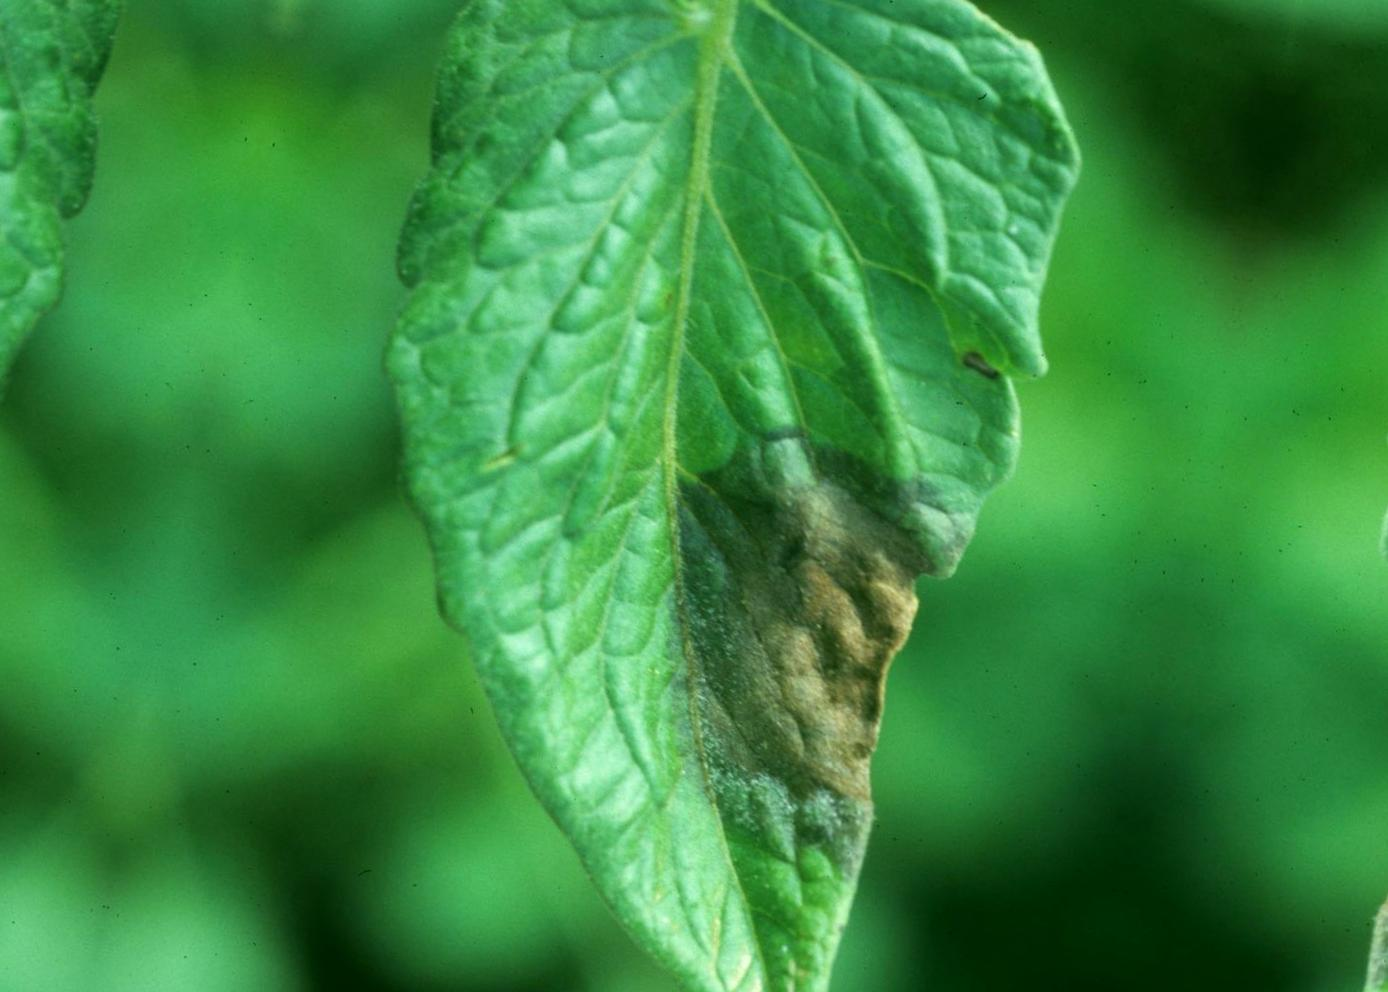Tomato leaf late blight: (218, 0, 1172, 992)
